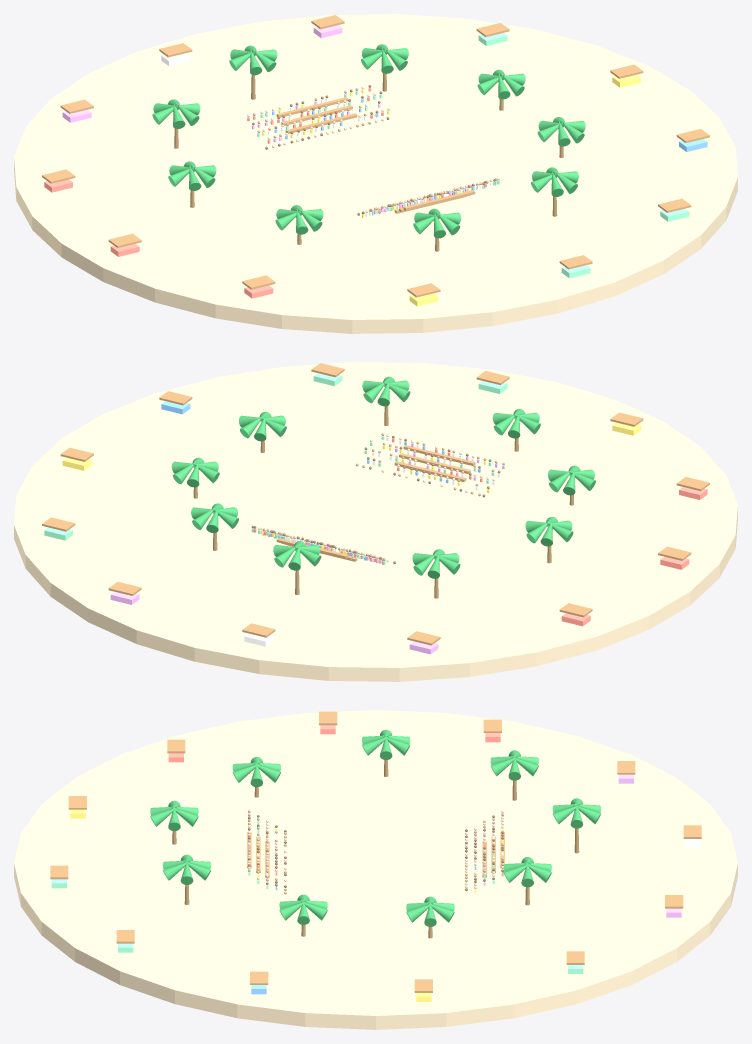
The model's file is venice-court-surround.glb.
3 views of the same model, one above another, from view 1: azimuth 30°, elevation 25°; view 2: azimuth 150°, elevation 25°; view 3: azimuth 270°, elevation 25° (orthographic).
Visible parts, largest first — view 1: BoardwalkBand; view 2: BoardwalkBand; view 3: BoardwalkBand.
Boxes of the visible parts, x1,y1,x2,y2 form: BoardwalkBand: [14, 14, 737, 333]; BoardwalkBand: [14, 362, 737, 681]; BoardwalkBand: [14, 710, 737, 1029].
Size of what is drawn, in the model's own units: 10.4 by 0.9819 by 10.4.
